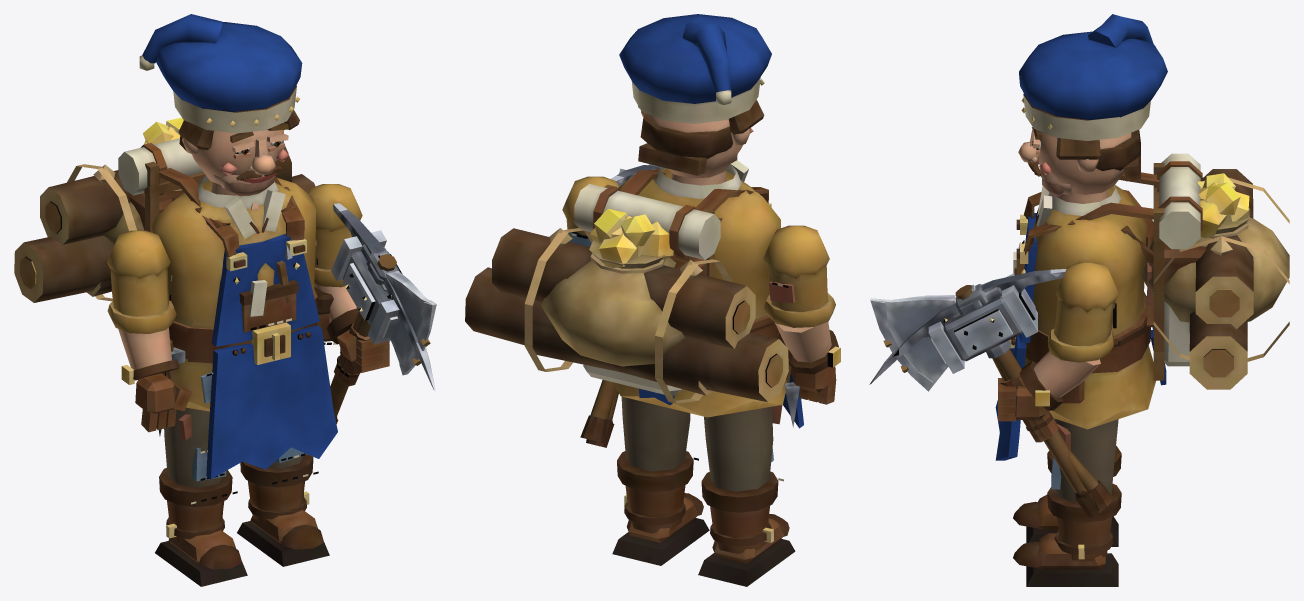
File: villager.glb
3 renders of one model, left to right at view 1: azimuth 30°, elevation 25°; view 2: azimuth 150°, elevation 25°; view 3: azimuth 270°, elevation 25°, orthographic. The views are drawn at different scales.
Parts seen in each view (by area): view 1: Torso, Head, WoodBundle, ArmL, LegL, LegR, ArmR, PackFrame, Hammer, Axe, Pickaxe, GoldSack; view 2: WoodBundle, Head, GoldSack, LegL, Torso, LegR, ArmL, PackFrame, Axe, ArmR, Pickaxe; view 3: Torso, Head, WoodBundle, LegR, ArmR, PackFrame, GoldSack, Hammer, Axe, Pickaxe, LegL.
Part boxes in pixels (left/top/right/bottom): Torso: left=150, top=175, right=338, bottom=478; Head: left=139, top=14, right=302, bottom=196; WoodBundle: left=14, top=146, right=315, bottom=302; ArmL: left=107, top=230, right=191, bottom=432; LegL: left=155, top=407, right=247, bottom=586; LegR: left=237, top=447, right=329, bottom=566; ArmR: left=308, top=184, right=389, bottom=372; PackFrame: left=118, top=138, right=295, bottom=232; Hammer: left=330, top=230, right=402, bottom=423; Axe: left=336, top=244, right=436, bottom=386; Pickaxe: left=333, top=203, right=435, bottom=423; GoldSack: left=103, top=117, right=183, bottom=244; WoodBundle: left=465, top=228, right=788, bottom=403; Head: left=619, top=14, right=771, bottom=178; GoldSack: left=541, top=208, right=685, bottom=366; LegL: left=698, top=405, right=795, bottom=586; Torso: left=613, top=160, right=803, bottom=428; LegR: left=612, top=396, right=709, bottom=565; ArmL: left=763, top=225, right=840, bottom=404; PackFrame: left=574, top=169, right=759, bottom=396; Axe: left=580, top=164, right=660, bottom=443; ArmR: left=562, top=176, right=618, bottom=246; Pickaxe: left=586, top=165, right=659, bottom=447; Torso: left=995, top=185, right=1166, bottom=460; Head: left=1018, top=14, right=1167, bottom=195; WoodBundle: left=1153, top=169, right=1289, bottom=389; LegR: left=1013, top=419, right=1121, bottom=586; ArmR: left=998, top=262, right=1118, bottom=421; PackFrame: left=1044, top=153, right=1206, bottom=380; GoldSack: left=1142, top=173, right=1289, bottom=322; Hammer: left=928, top=273, right=1089, bottom=499; Axe: left=870, top=284, right=1113, bottom=510; Pickaxe: left=869, top=269, right=1104, bottom=516; LegL: left=1013, top=418, right=1121, bottom=546.
Bounding box in the file's own units: 1.09 × 1.95 × 1.41.
Materials: 2 (2 with a texture image).
